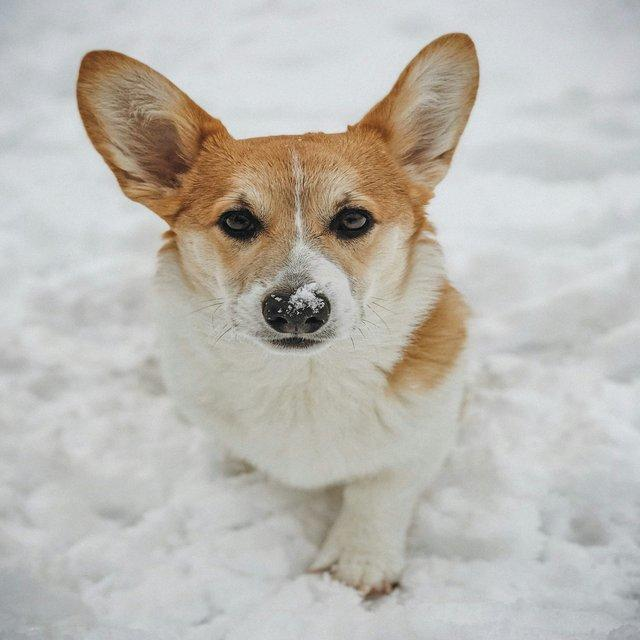corgi: (74, 31, 481, 599)
